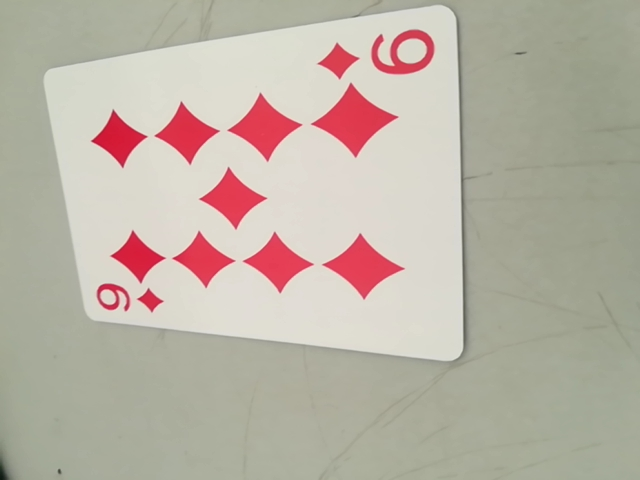fk 9: (321, 21, 442, 89), (90, 278, 169, 324)
